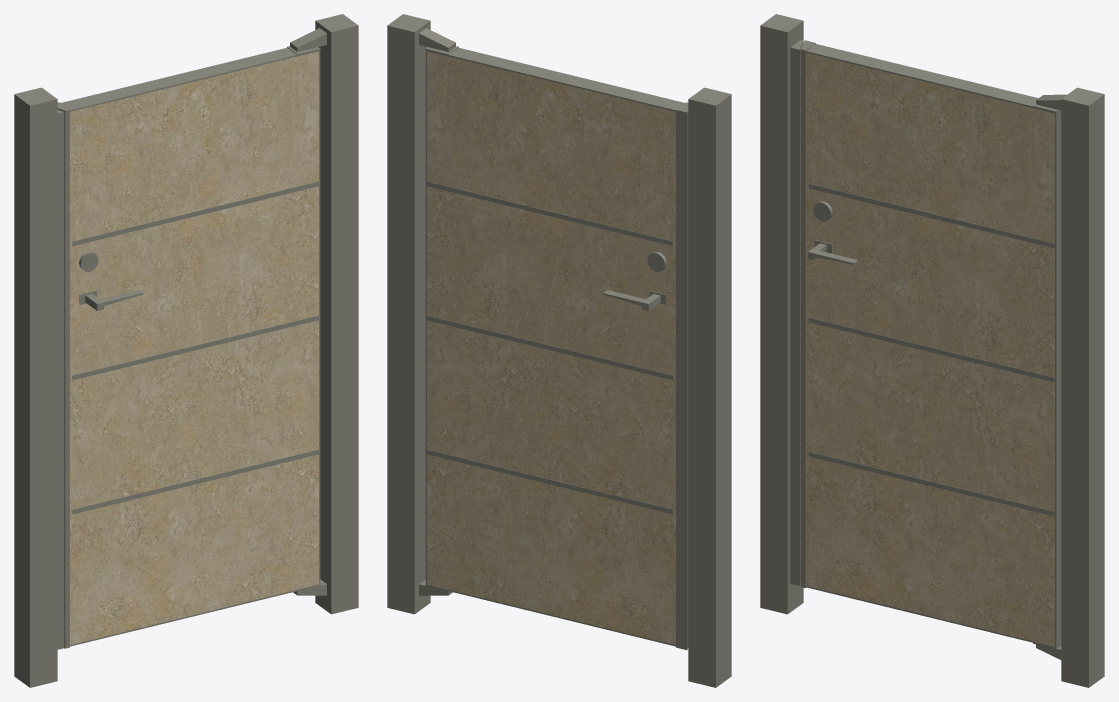
The model's file is abmonpi-line_h1400-w700_travartine.fbx.
3 views of the same model, side by side, from view 1: azimuth 30°, elevation 25°; view 2: azimuth 150°, elevation 25°; view 3: azimuth 330°, elevation 25° (orthographic).
Visible parts, largest first — view 1: abmonpi-line_h1400-w700_rustycopper.005; view 2: abmonpi-line_h1400-w700_rustycopper.005; view 3: abmonpi-line_h1400-w700_rustycopper.005.
Boxes of the visible parts, x1,y1,x2,y2 form: abmonpi-line_h1400-w700_rustycopper.005: (14,14,358,687); abmonpi-line_h1400-w700_rustycopper.005: (387,14,731,687); abmonpi-line_h1400-w700_rustycopper.005: (760,14,1104,687).
Size of the model in its own units: 89.8 by 152 by 16.7.
Materials: 2 (2 with a texture image).
